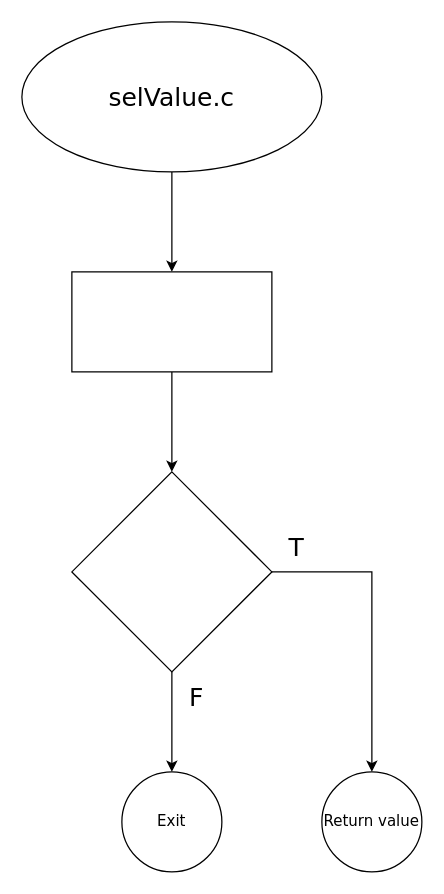
This 444x894 diagram has some shape labels left out. The shapes that lost their labels are listed below. From the top down, each one's centre as x and y in pixels, then its label:
(171,321): Ask user for input
(171,571): Input between 0 and 9
